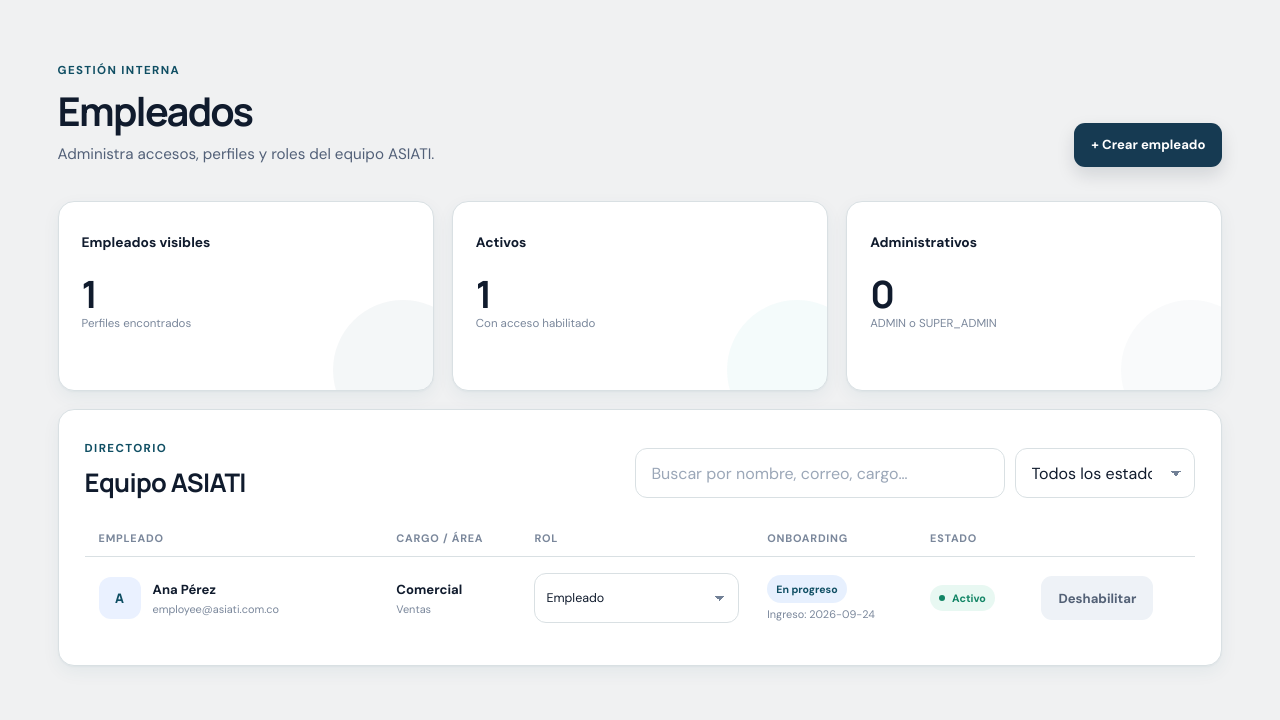
Employees administration › shows role controls to SUPER_ADMIN
expect the text "Ana Pérez" is shown: met, box [153,581,216,598]
Click the button "+ Crear empleado". click: (1148, 145)
box: [1074,123,1222,167]
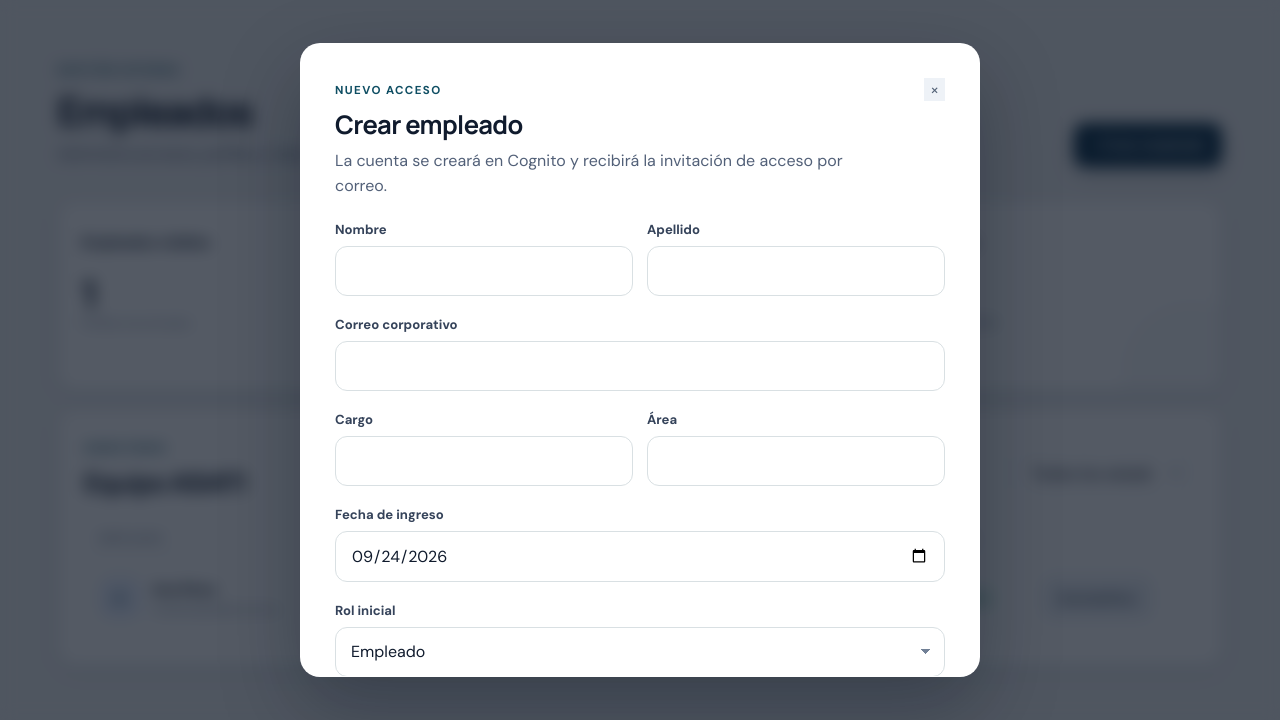
expect the dropdown labelled "Rol inicial" is shown: met, box [335,626,945,676]
